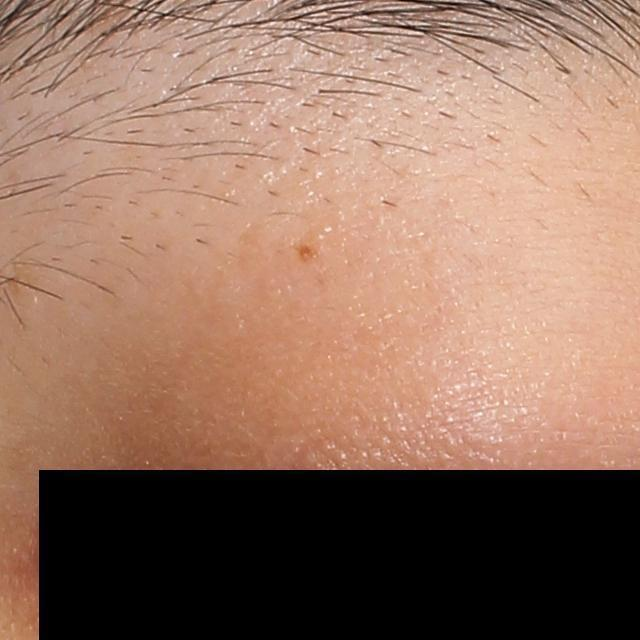nevus: (291, 240, 315, 268)
